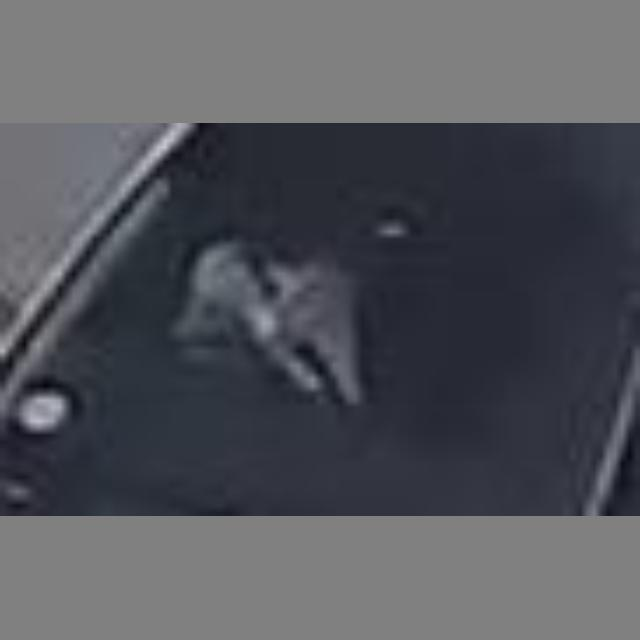pakai: (183, 207, 408, 461)
